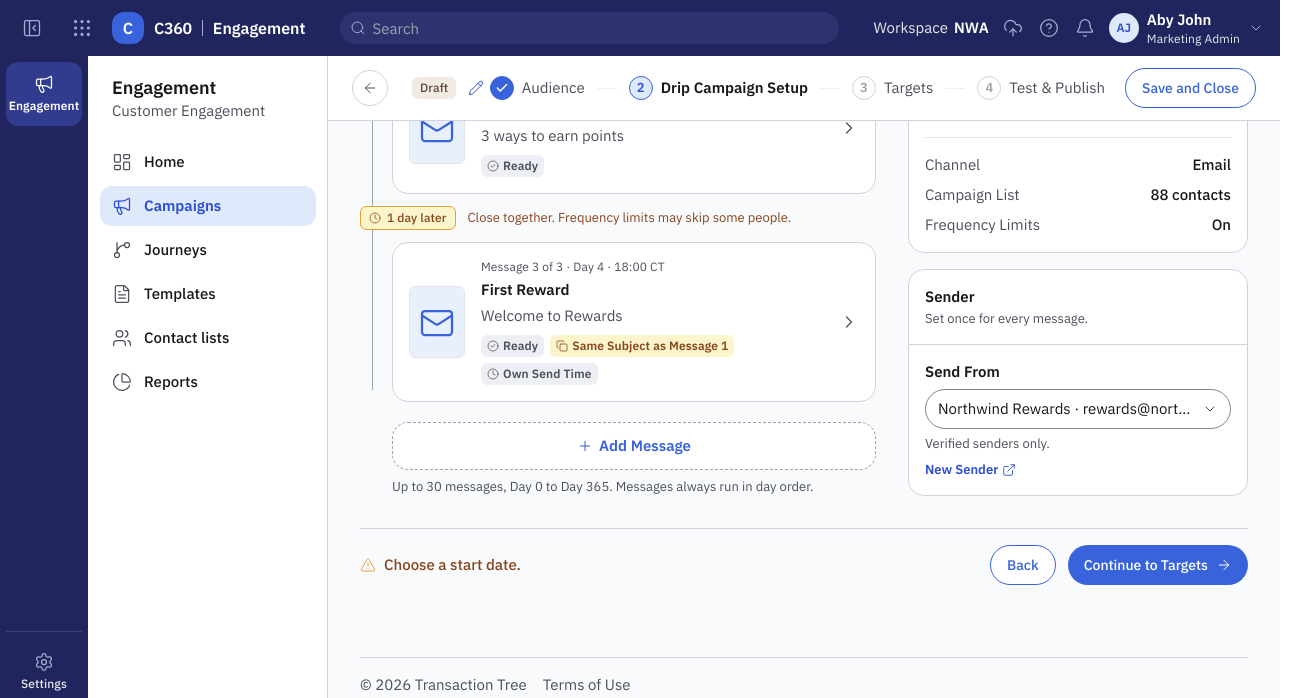
without a start date: the marker and the summary ask for one, and Continue says so instead of moving on
This screenshot has width=1292, height=698.
(page scrolled)
Expected: the element showing "3 messages over 5 days Choose a start date to see the dates." is shown, [925, 79, 1138, 120]
Expected: the button with aria-label "Open message 2, How Points Work" shows "Message 2 of 3 · Day 3 · 09:00 CT", [392, 62, 876, 194]
Click the button "Continue to Targets". click: (1158, 565)
box: [1068, 545, 1248, 585]
(page scrolled)
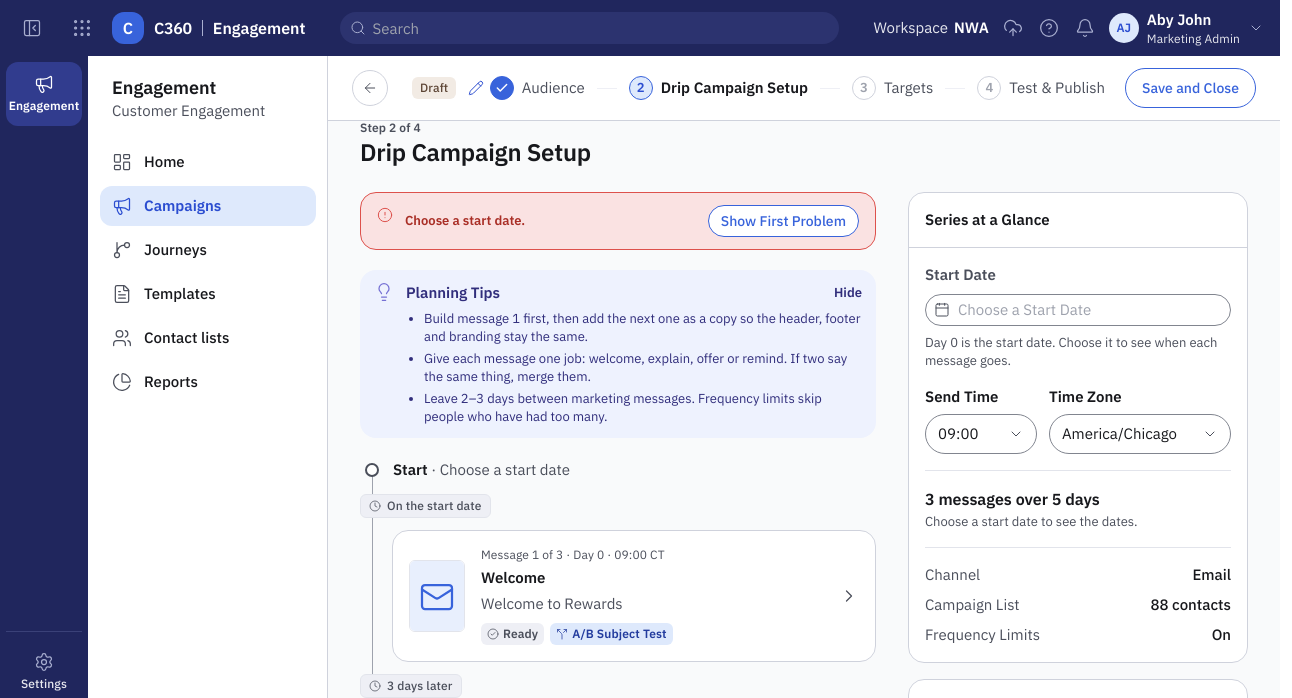
Expected: the heading "Drip Campaign Setup" is shown, [360, 136, 591, 168]
Expected: the message shows "Choose a start date.", [405, 212, 525, 229]
